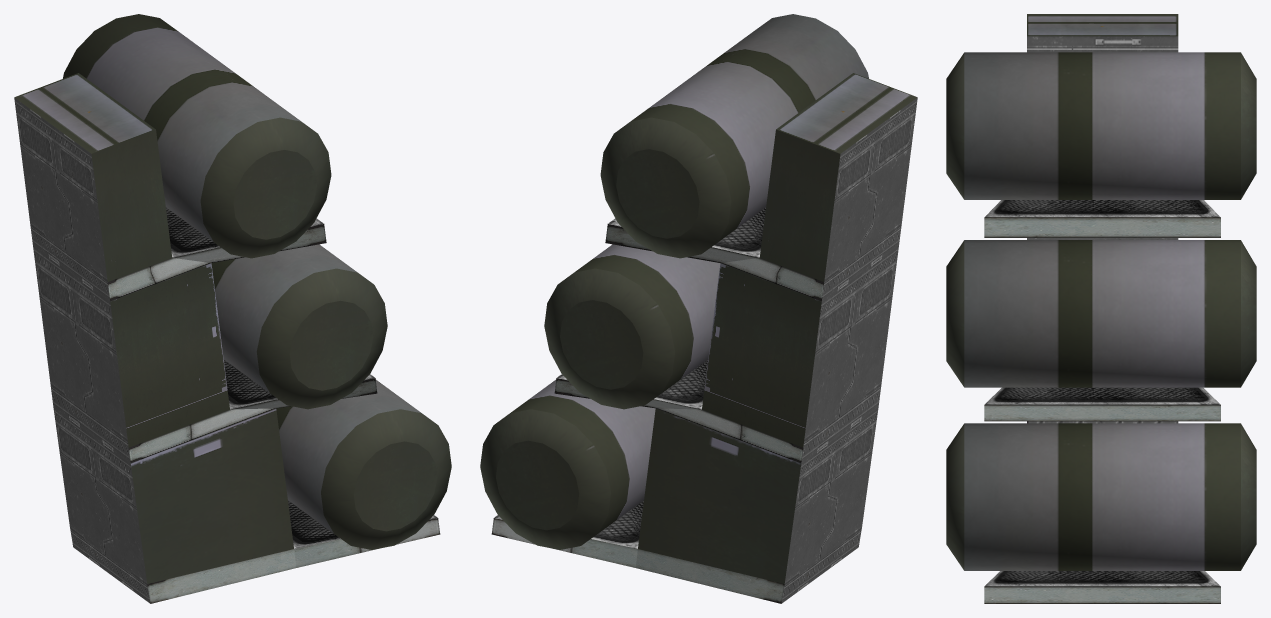
Rendered from Canisters_05.fbx.
3 renders of one model, left to right at view 1: azimuth 30°, elevation 25°; view 2: azimuth 150°, elevation 25°; view 3: azimuth 270°, elevation 25°, orthographic. The views are drawn at different scales.
Visible parts, largest first — view 1: Canisters_05; view 2: Canisters_05; view 3: Canisters_05.
Boxes of the visible parts, x1=… form: Canisters_05: x1=14, y1=14, x2=451, y2=603; Canisters_05: x1=480, y1=14, x2=917, y2=603; Canisters_05: x1=946, y1=14, x2=1256, y2=603.
Bounding box in the file's own units: 77.75 × 110 × 65.2.
